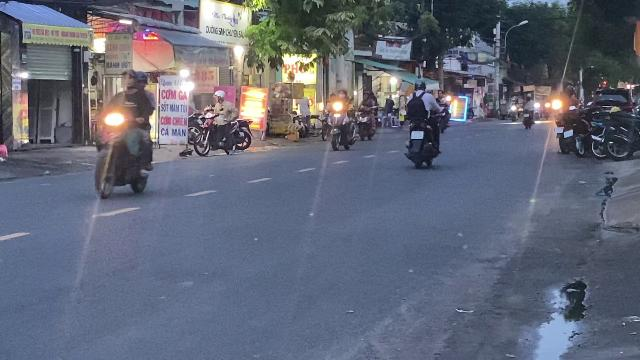helmet: (122, 69, 136, 89), (134, 70, 148, 88)
motorcyclist: (91, 68, 157, 200)
